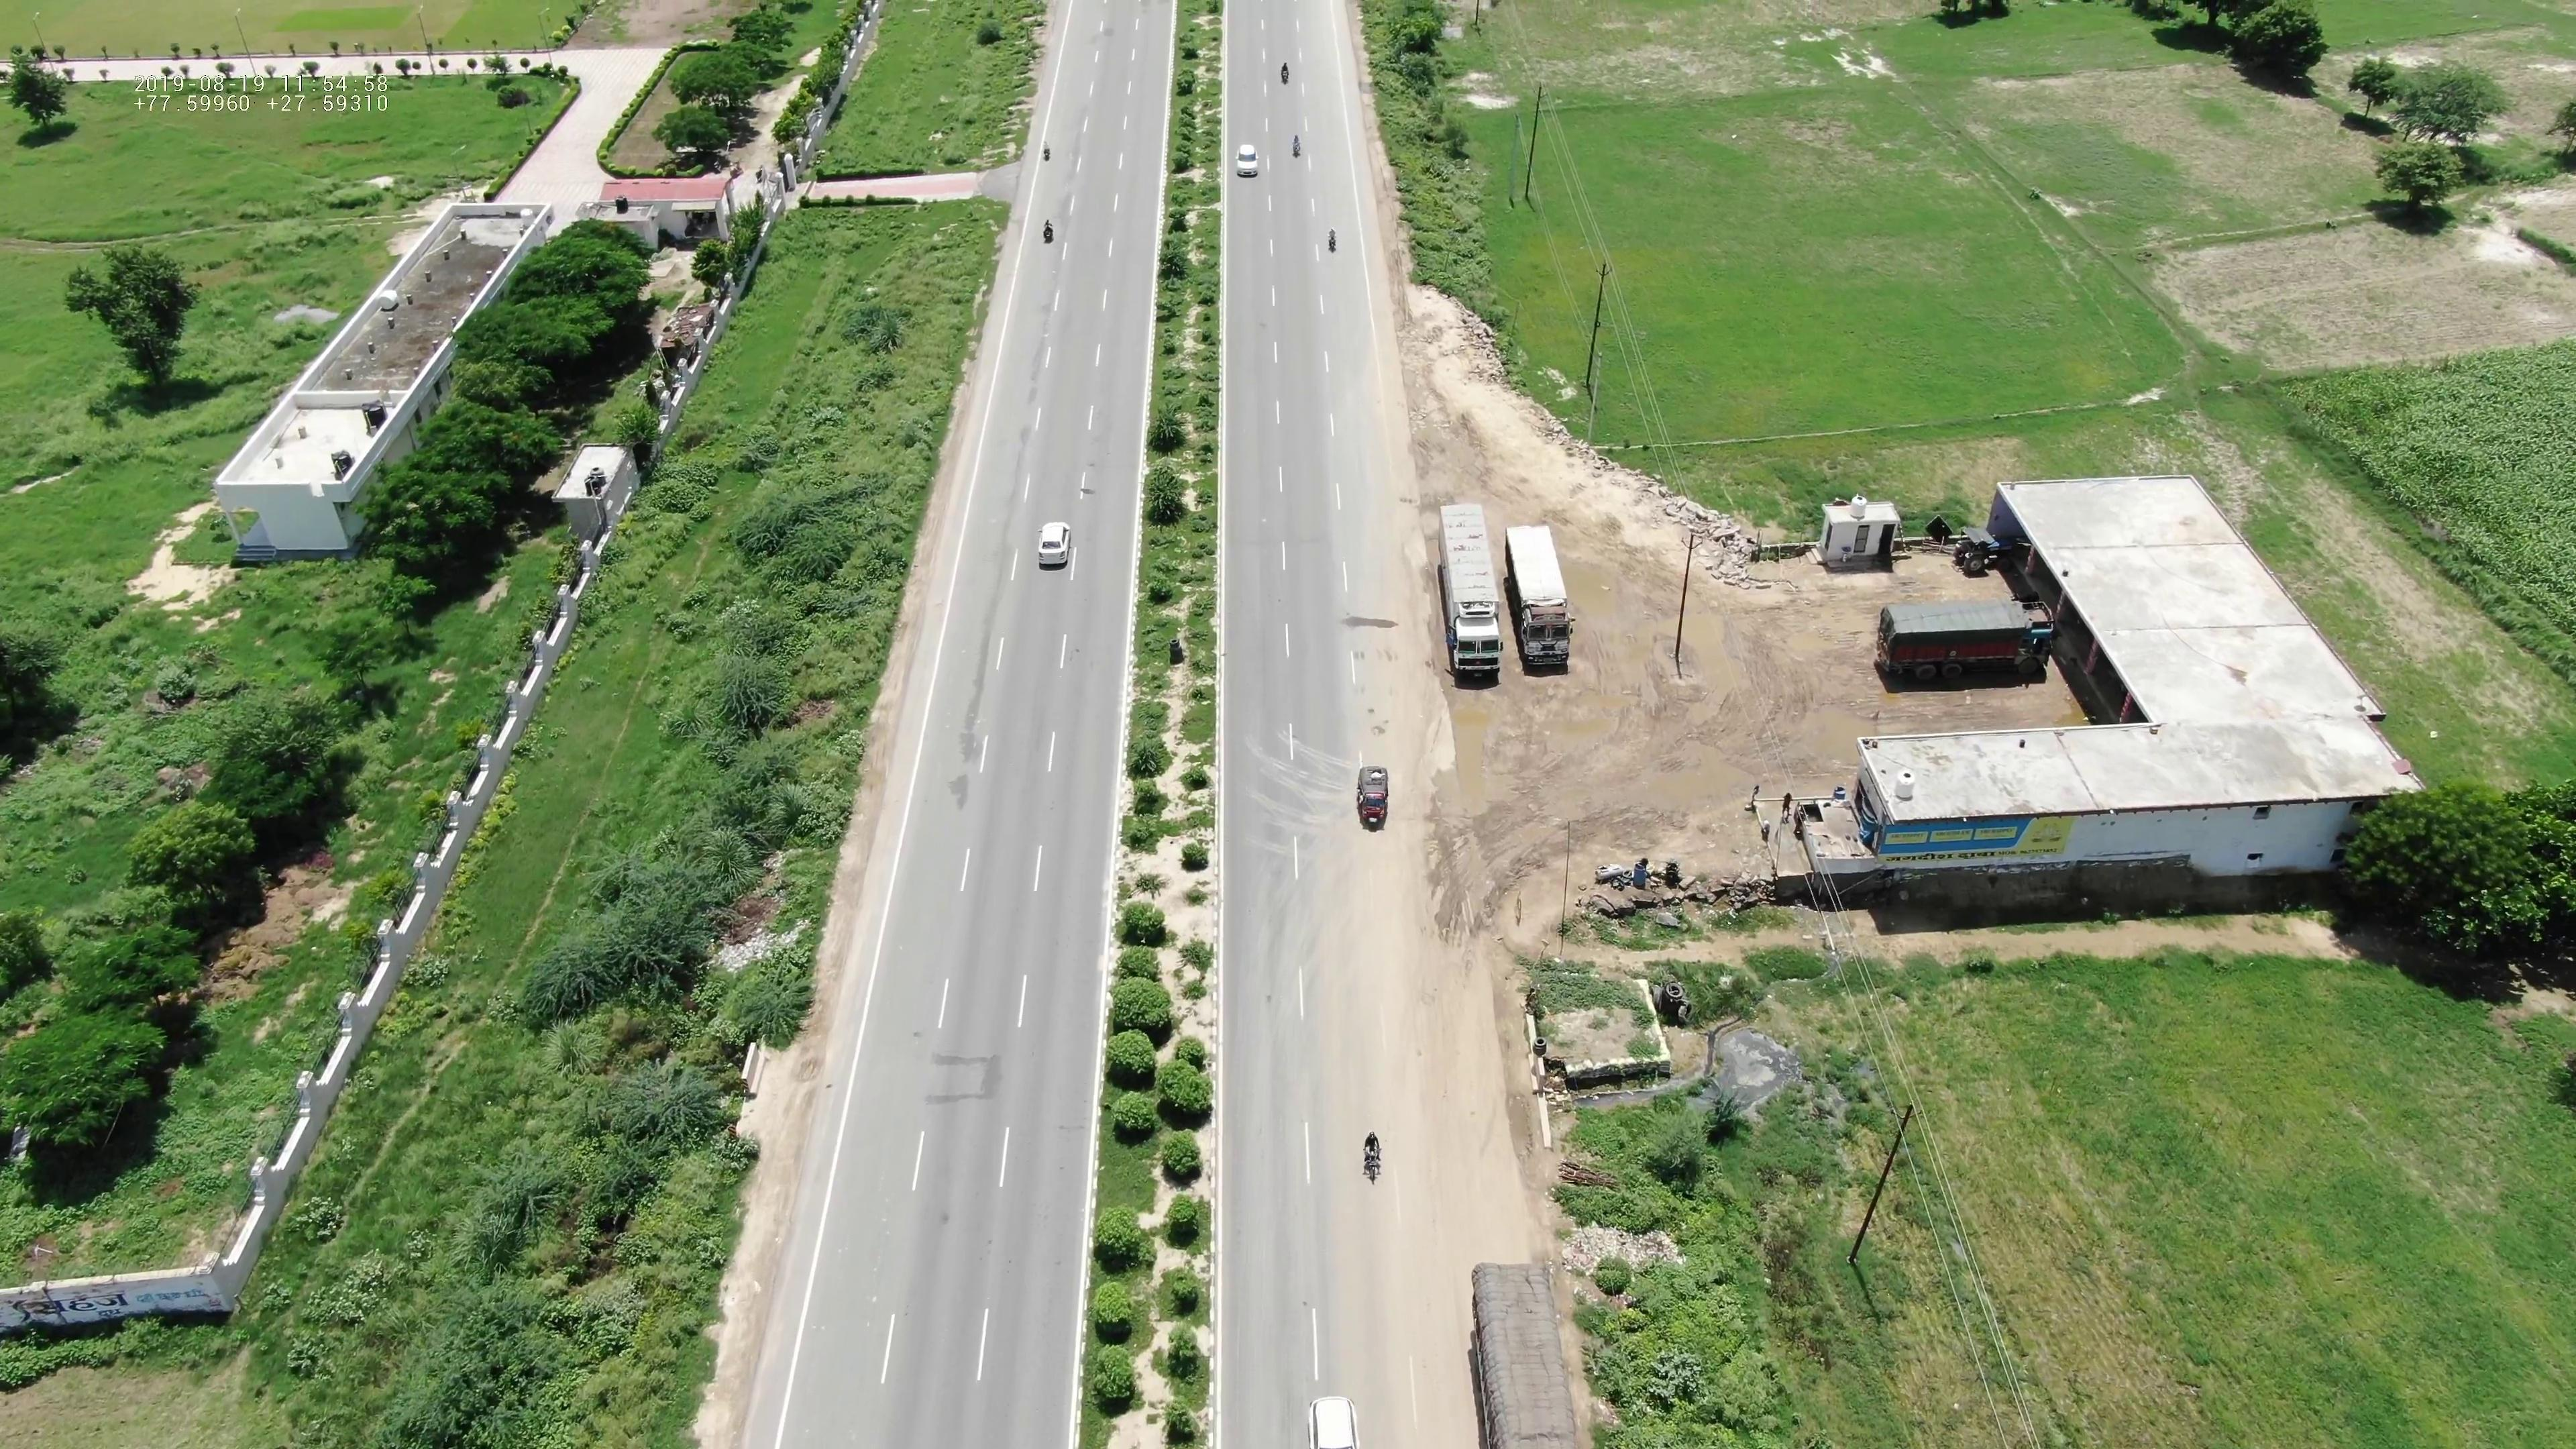Muddy_road: (1389, 743, 1476, 950)
